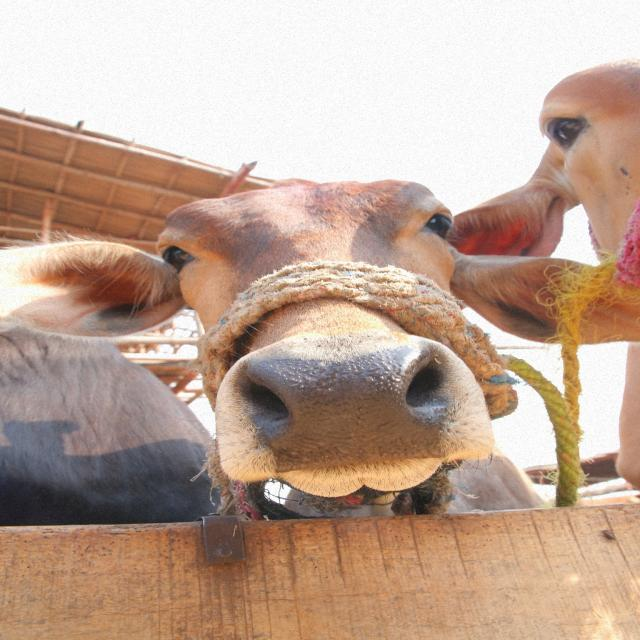muzzles: (207, 339, 490, 470)
